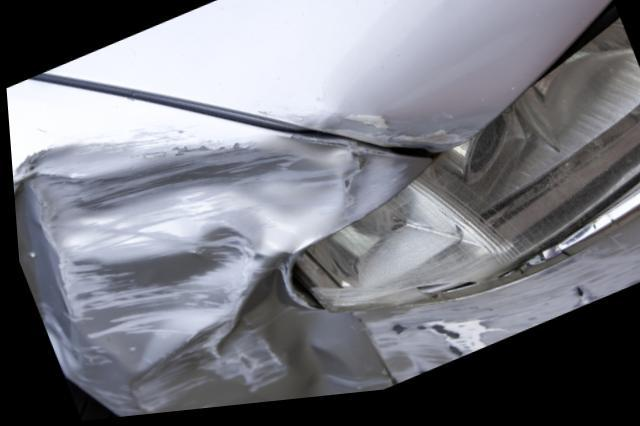dent: (10, 131, 426, 418)
scratch: (313, 245, 640, 401), (260, 113, 479, 161)
